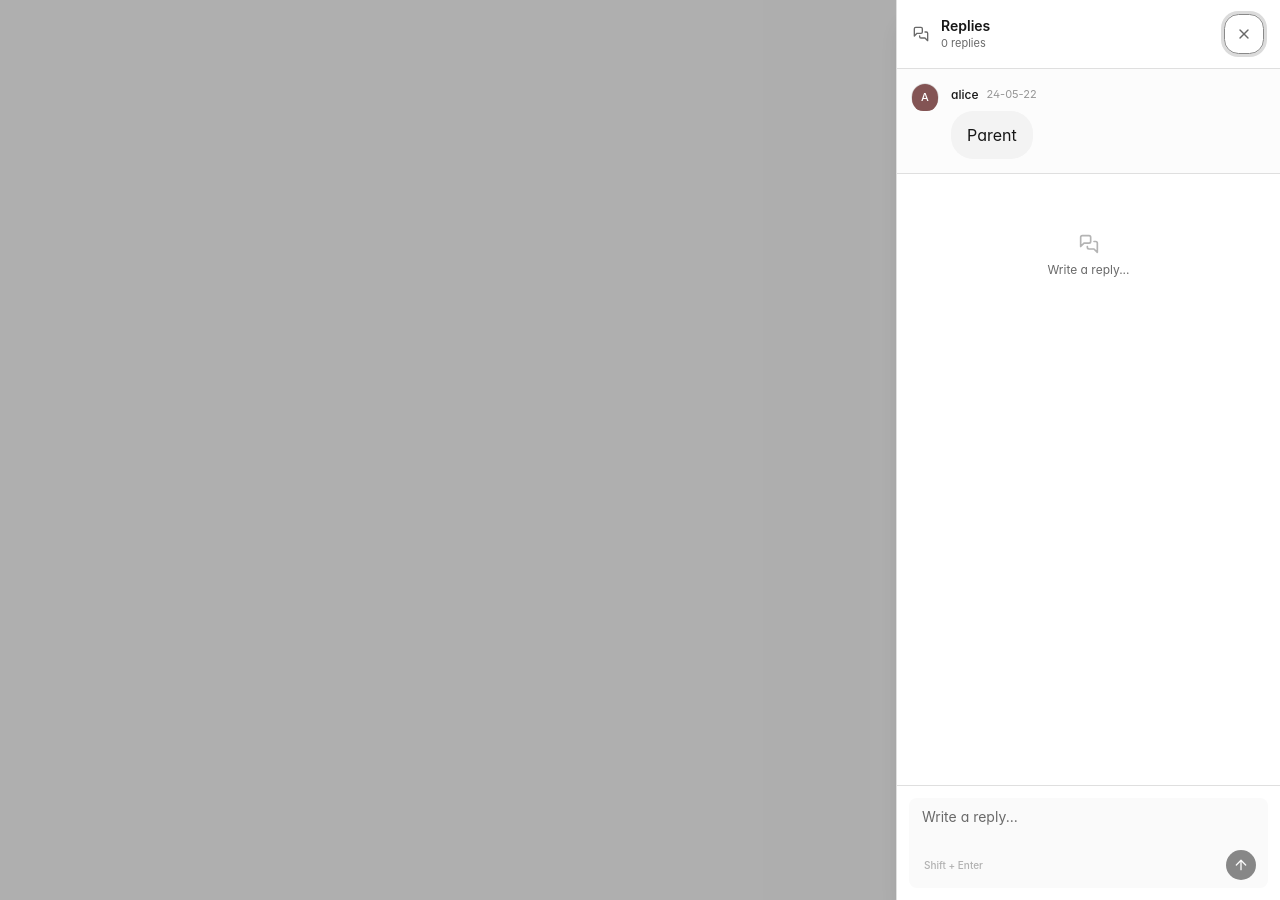
Test: ThreadPanel › send button becomes enabled when reply text is entered
Type "Hello" into the text box with placeholder "Write a reply..." at (1088, 821), box [910,799,1267,843]
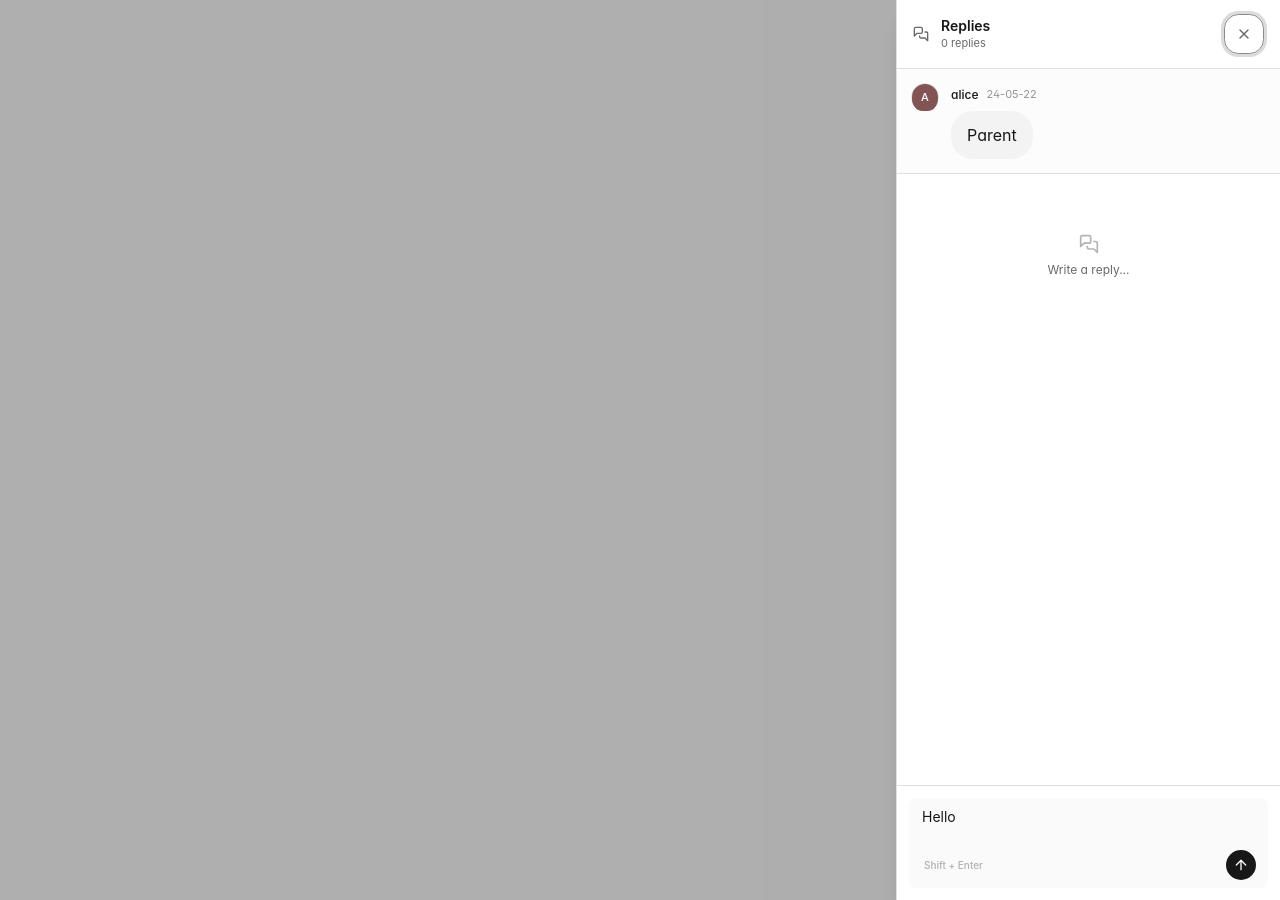
Now the button named "Write a reply..." is enabled, box [1225,849,1257,881]
